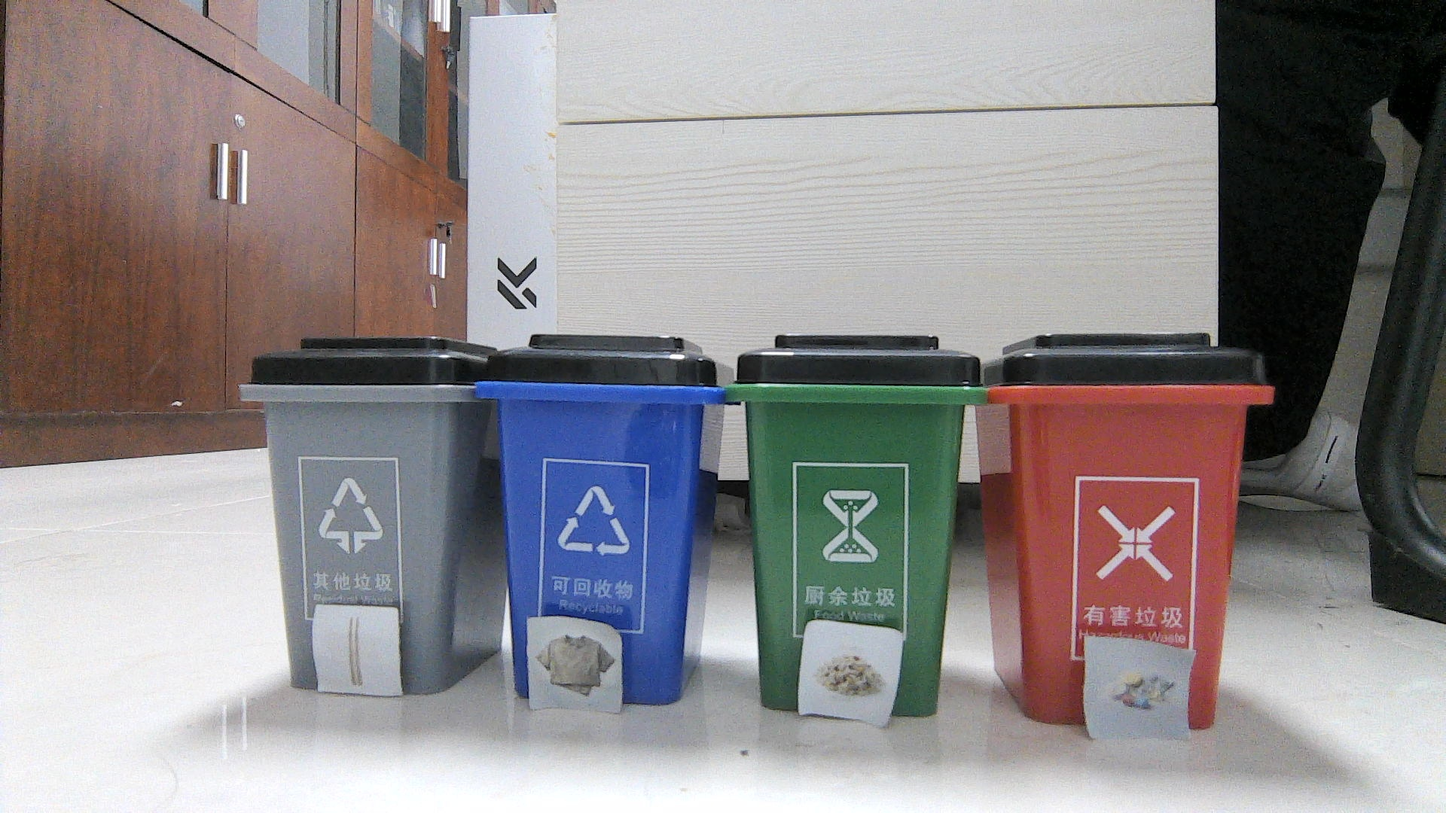food_trash: (806, 627, 894, 714)
hazardous_trash: (1092, 647, 1184, 732)
other_trash: (319, 609, 395, 689)
recyclable_trash: (532, 622, 616, 707)
